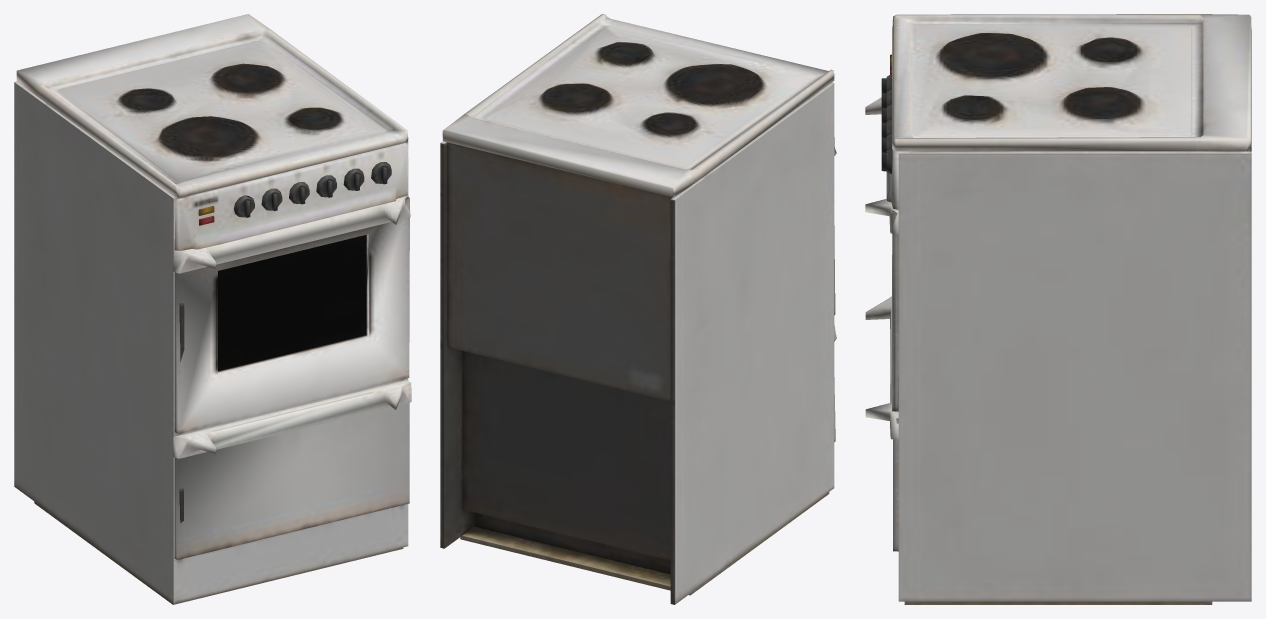
File: electric_stove.glb
3 renders of one model, left to right at view 1: azimuth 30°, elevation 25°; view 2: azimuth 150°, elevation 25°; view 3: azimuth 270°, elevation 25°, orthographic. The views are drawn at different scales.
Parts seen in each view (by area): view 1: stovetop, door_top, handle_bottom_attachment; view 2: stovetop; view 3: stovetop, door_top, handle_bottom_attachment.
Boxes of the visible parts, x1,y1,x2,y2 form: stovetop: (14,14,408,604); door_top: (173,195,410,433); handle_bottom_attachment: (173,380,411,559); stovetop: (440,14,834,604); stovetop: (886,14,1251,604); door_top: (865,97,898,411); handle_bottom_attachment: (865,296,898,551).
Size of the model in its own units: 0.5026 by 0.8584 by 0.6446.
2 materials, 2 textured.
